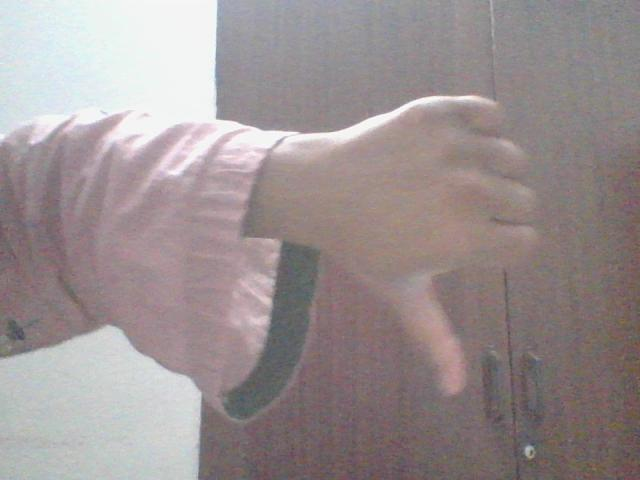thumbs-down: (359, 93, 546, 397)
